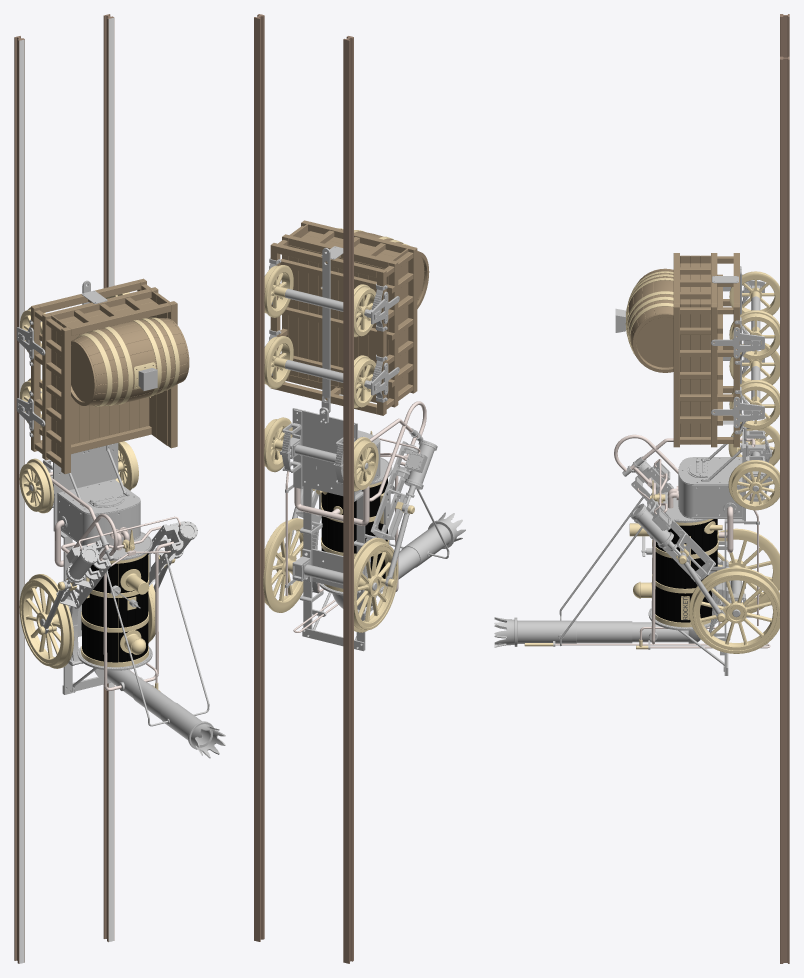
3 renders of one model, left to right at view 1: azimuth 30°, elevation 25°; view 2: azimuth 150°, elevation 25°; view 3: azimuth 270°, elevation 25°, orthographic. The views are drawn at different scales.
Parts seen in each view (by area): view 1: Body1 (×24), Body3 (×2), Body2 (×3), Body8 (×2), Body6 (×2), Body4 (×2), Body7, Body42, Body43, Body40, Body5; view 2: Body1 (×24), Body3 (×2), Body2 (×3), Body8 (×2), Body4 (×2), Body6 (×2), Body7, Body5, Body13, Body12; view 3: Body1 (×17), Body8 (×2), Body2, Body3, Body7.
Part boxes in pixels (x1,y1,x2,y2): Body1 (×24): (19, 14, 225, 942); Body3 (×2): (14, 36, 145, 963); Body2 (×3): (49, 288, 174, 719); Body8 (×2): (19, 441, 138, 513); Body6 (×2): (68, 302, 170, 404); Body4 (×2): (37, 280, 140, 406); Body7: (49, 472, 117, 560); Body42: (109, 563, 117, 662); Body43: (118, 562, 127, 662); Body40: (92, 564, 100, 660); Body5: (87, 329, 122, 405); Body1 (×24): (254, 14, 454, 941); Body3 (×2): (308, 36, 353, 963); Body2 (×3): (288, 236, 419, 579); Body8 (×2): (263, 417, 378, 491); Body4 (×2): (277, 244, 379, 414); Body6 (×2): (308, 222, 410, 387); Body7: (369, 401, 426, 501); Body5: (330, 266, 338, 386); Body13: (280, 259, 394, 293); Body12: (283, 307, 394, 340); Body1 (×17): (514, 56, 789, 963); Body8 (×2): (728, 425, 779, 510); Body2: (576, 621, 632, 643); Body3: (632, 622, 688, 642); Body7: (614, 434, 755, 486).
Size of the model in its own units: 356 by 2650 by 784.
